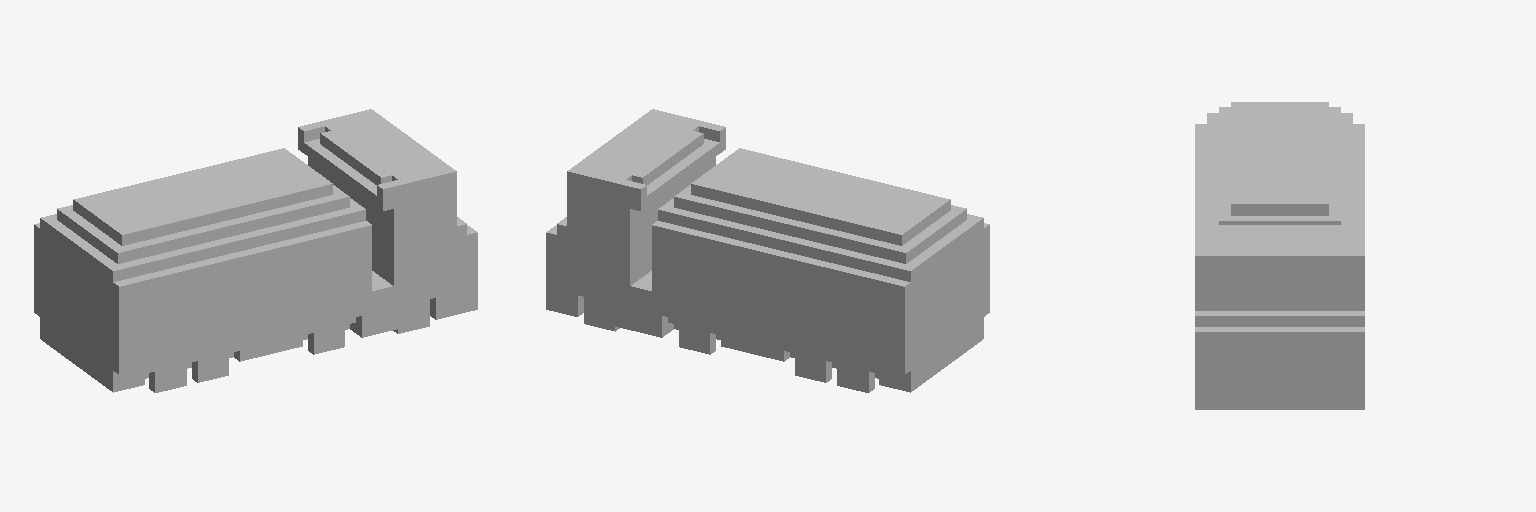
File: truck.obj
3 renders of one model, left to right at view 1: azimuth 30°, elevation 25°; view 2: azimuth 150°, elevation 25°; view 3: azimuth 270°, elevation 25°, orthographic.
Visible parts, largest first — view 1: truck; view 2: truck; view 3: truck.
Boxes of the visible parts, box(x1,y1,x2,y2) form: truck: box(34, 109, 477, 392); truck: box(546, 109, 989, 392); truck: box(1195, 102, 1364, 409).
Bounding box in the file's own units: 34 × 14 × 14.